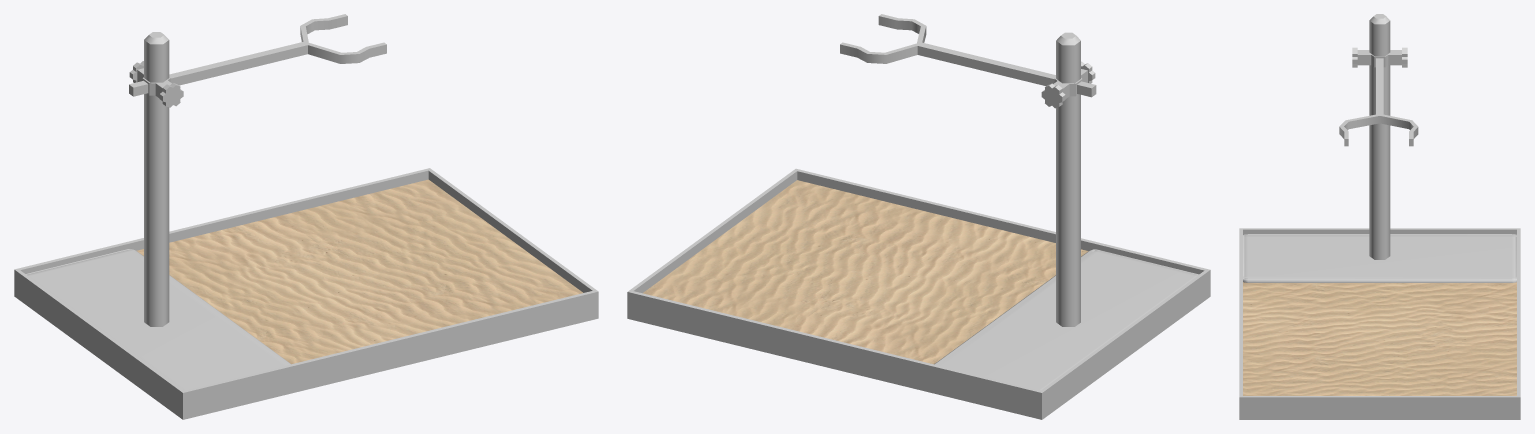
The model's file is Stand.glb.
3 views of the same model, side by side, from view 1: azimuth 30°, elevation 25°; view 2: azimuth 150°, elevation 25°; view 3: azimuth 270°, elevation 25° (orthographic). The views are drawn at different scales.
Parts seen in each view (by area): view 1: ScienceSetEmissive_ScienceSetEmissive_02_0.001; view 2: ScienceSetEmissive_ScienceSetEmissive_02_0.001; view 3: ScienceSetEmissive_ScienceSetEmissive_02_0.001.
Part boxes in pixels (left/top/right/bottom): ScienceSetEmissive_ScienceSetEmissive_02_0.001: left=14, top=14, right=598, bottom=419; ScienceSetEmissive_ScienceSetEmissive_02_0.001: left=627, top=14, right=1210, bottom=419; ScienceSetEmissive_ScienceSetEmissive_02_0.001: left=1239, top=14, right=1520, bottom=419.
Bounding box in the file's own units: 2.84 × 2.02 × 2.
Materials: 2 (1 with a texture image).
